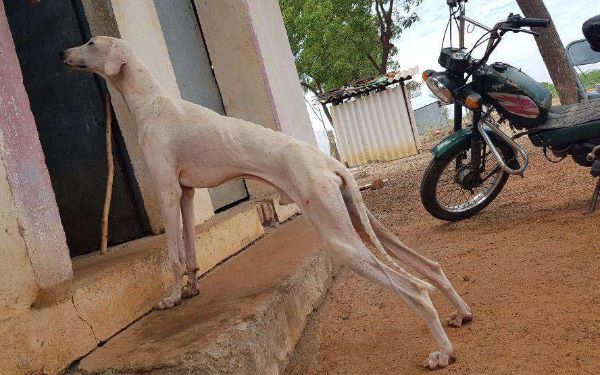dog: (59, 36, 473, 371)
